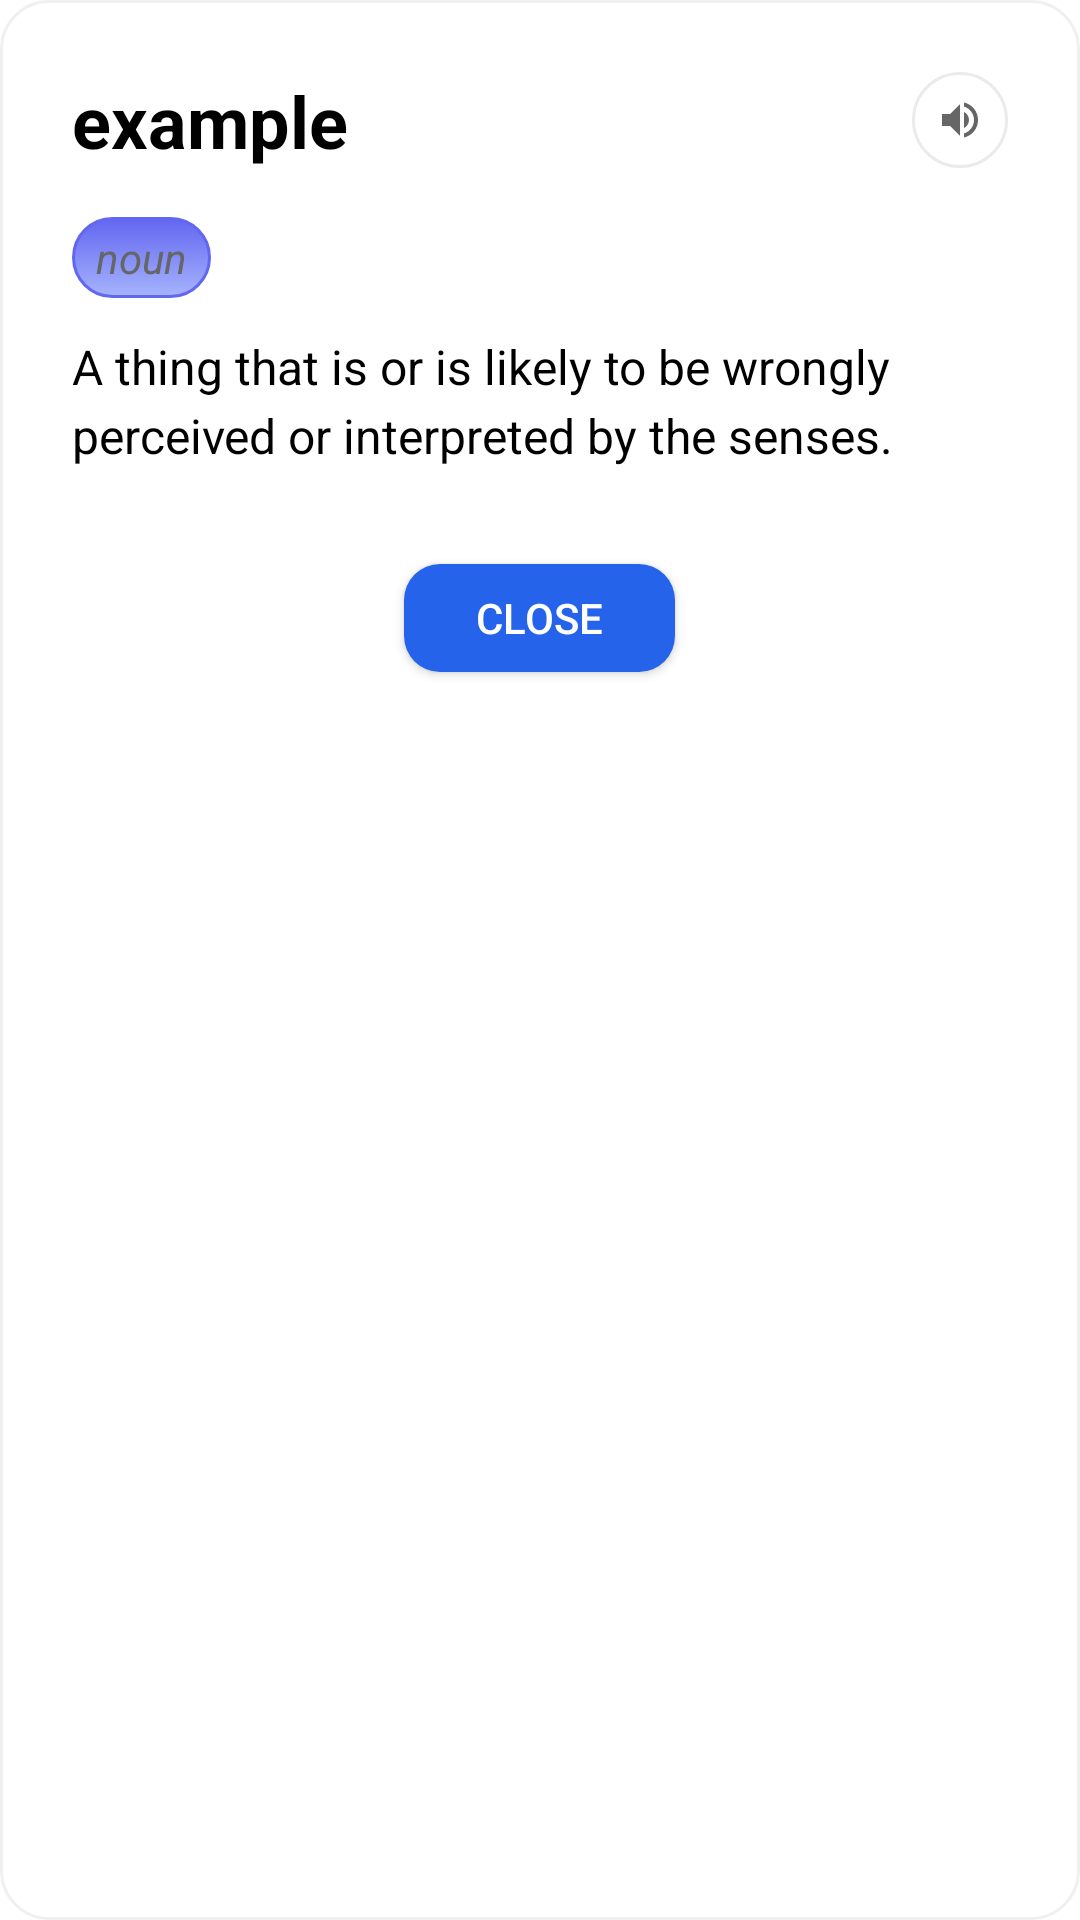

Icon bounding boxes for this 1080w x 1920h phone screenshot, format bbox=[x1, y1, x2, y2]:
sound: bbox=[942, 102, 978, 138]
